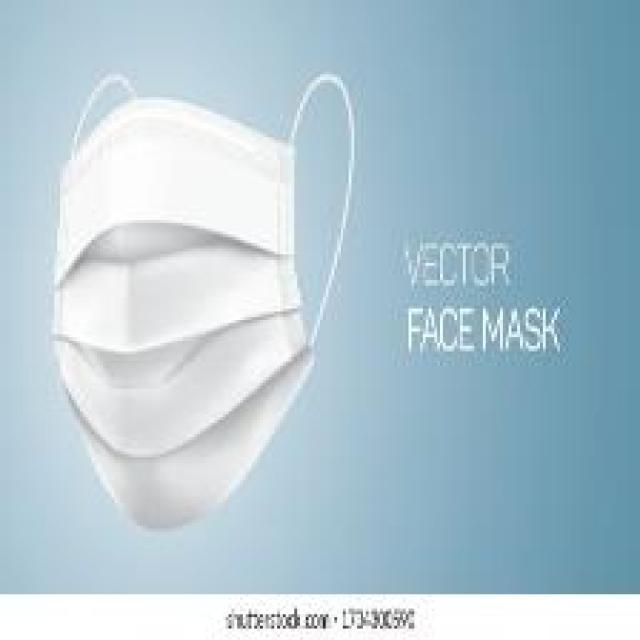Mask: (32, 66, 363, 578)
